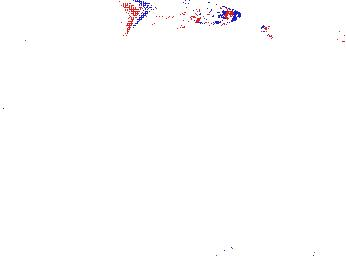glassfish: (222, 100, 324, 166)
red belly glassfish: (258, 23, 281, 48)
redtail glassfish: (123, 1, 244, 35), (50, 76, 112, 109)
